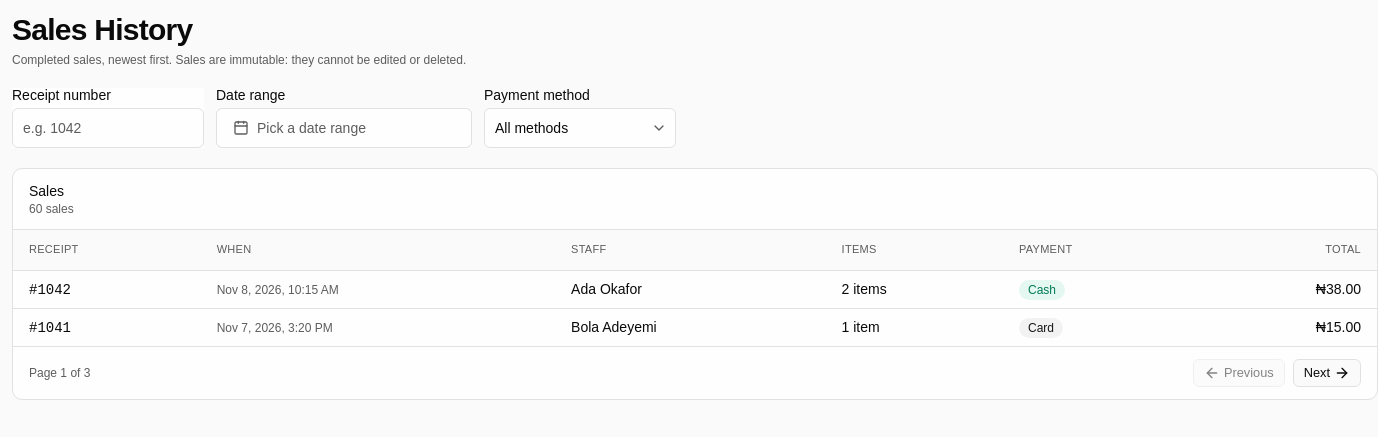
SalesHistoryPage › keeps the table data while a page is loading
Expected: the text "#1042" is shown, [29,282,71,298]
Click the button "Next". click: click(1327, 372)
box: [1293,358,1361,386]
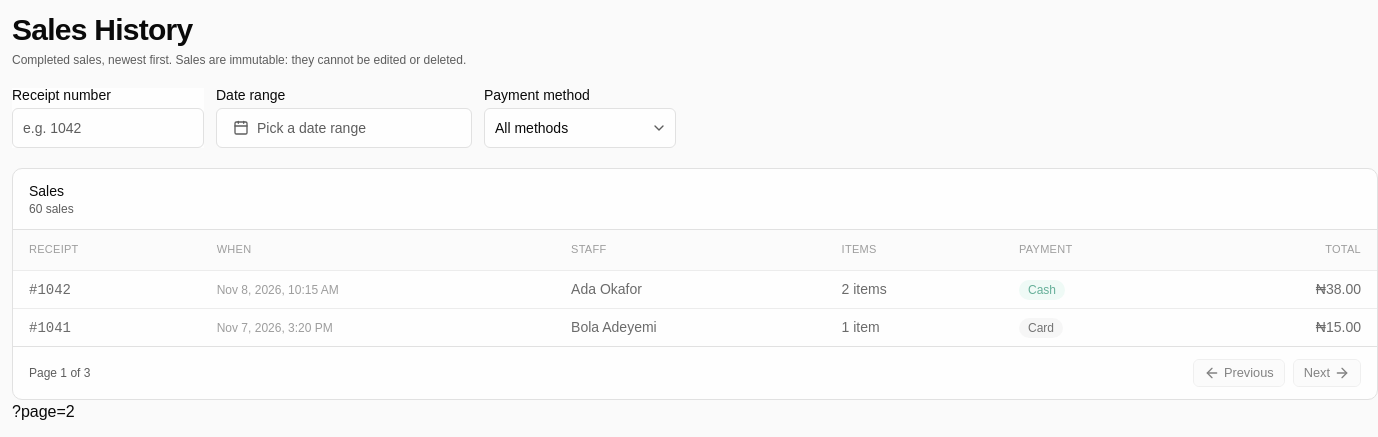
Expected: the text "#1042" is shown, [29,282,71,298]
Expected: the text with test id "location-search" reads "?page=2", [12,402,75,420]
